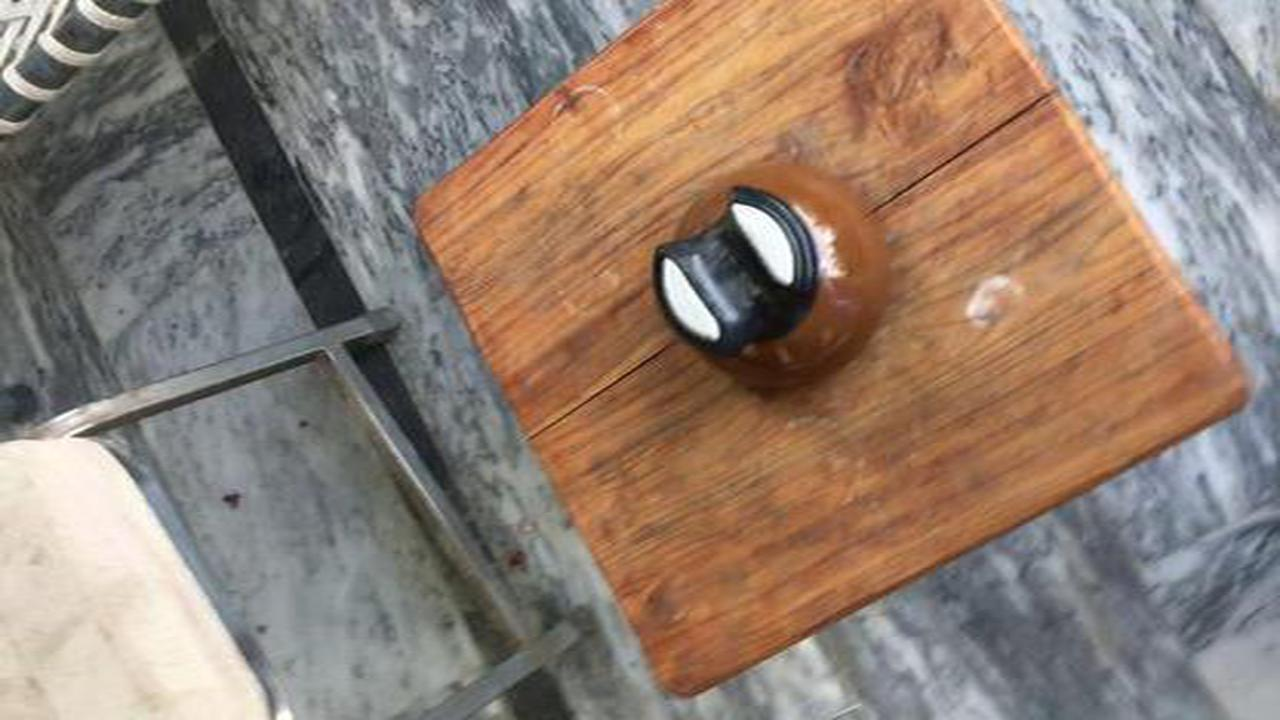insulator_pin: (637, 145, 902, 419)
